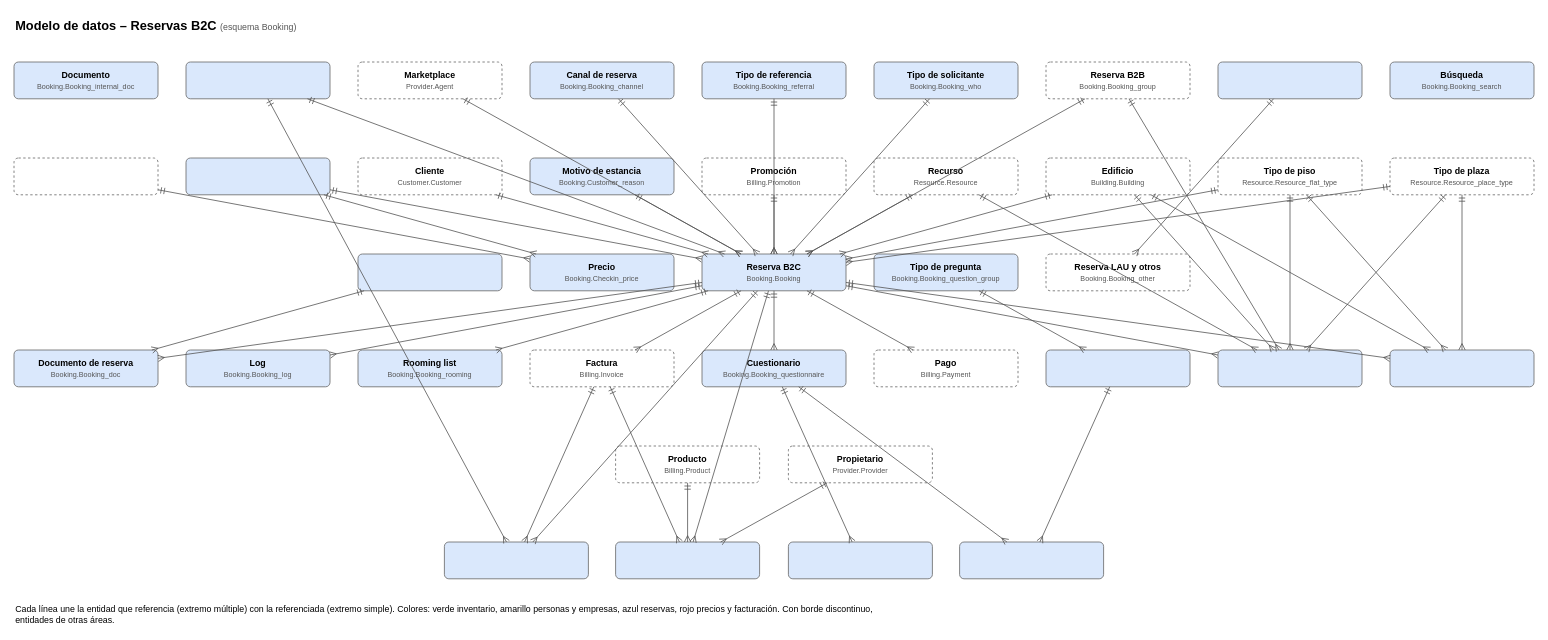
Image size: 1548x640. Some labels were removed from this diagram. The centre of each missing label's shape, as x and y in pixels:
"Alternativa Booking.Booking_option" belongs at (1461,368).
"Concepto extra Booking.Booking_service" belongs at (687,560).
"Foto/Vídeo Booking.Booking_photo" belongs at (860,560).
"Localidad Geo.Location" belongs at (85,176).
"Precio Booking.Booking_price" belongs at (516,560).
"Pregunta Booking.Booking_question" belongs at (1117,368).
"Pregunta-Respuesta Booking.Booking_answer" belongs at (1031,560).
"Reserva Booking.Booking_detail" belongs at (1289,368).
"Servicio check-in/check-out Booking.Checkin_type" belongs at (257,176).
"Tipo de descuento Booking.Booking_discount_type" belongs at (257,80).
"Tipo de documento Booking.Booking_doc_type" belongs at (429,272).
"Tipo de reserva LAU Booking.Booking_subtype" belongs at (1289,80).
